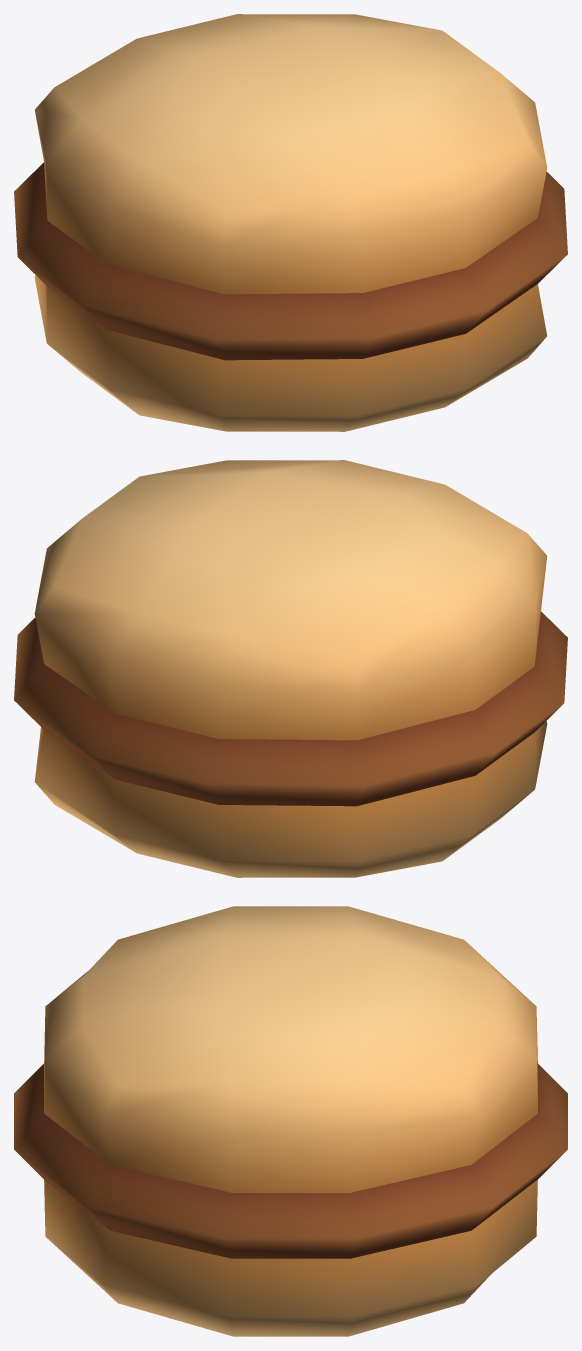
The model's file is m_Macaron02.fbx.
The picture shows the model from 3 angles, top to bottom: view 1: azimuth 30°, elevation 25°; view 2: azimuth 150°, elevation 25°; view 3: azimuth 270°, elevation 25°; orthographic projection.
Parts seen in each view (by area): view 1: m_Macaron02; view 2: m_Macaron02; view 3: m_Macaron02.
Boxes of the visible parts, box(x1,y1,x2,y2) form: m_Macaron02: box(14, 14, 567, 431); m_Macaron02: box(14, 460, 567, 877); m_Macaron02: box(14, 906, 567, 1336).
Size of the model in its own units: 6.65 by 4.13 by 6.65.
